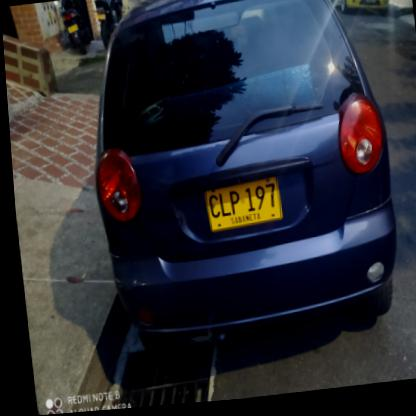placa: (195, 176, 284, 239)
